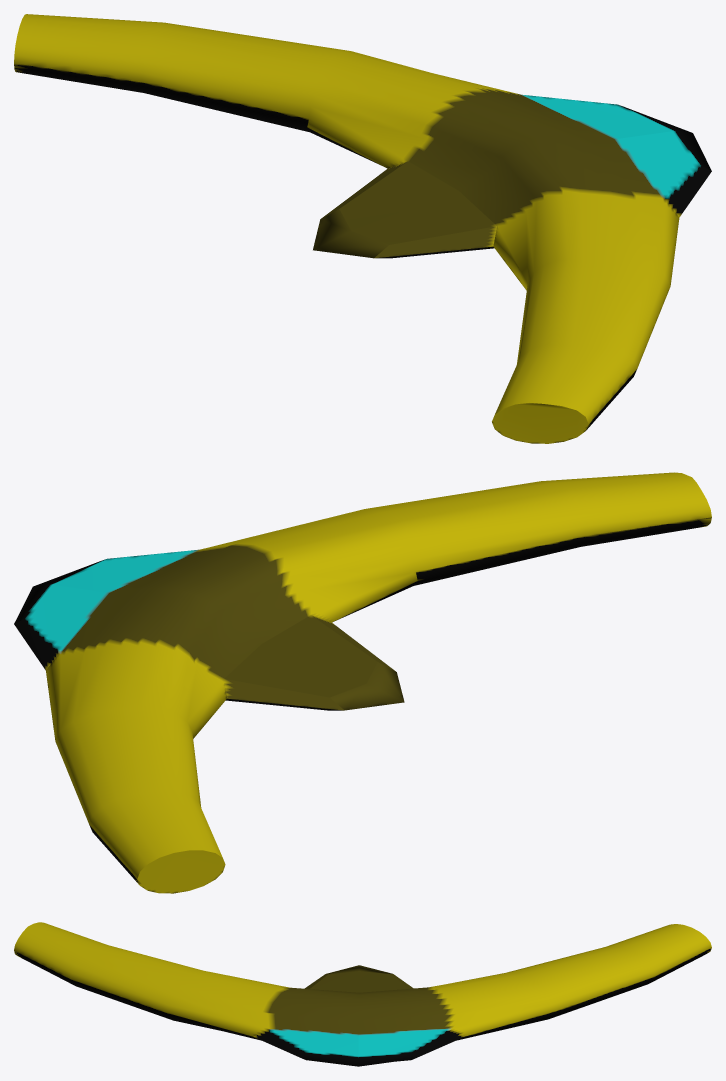
Rendered from mini ship texture 4.FBX.
The picture shows the model from 3 angles, top to bottom: view 1: azimuth 30°, elevation 25°; view 2: azimuth 150°, elevation 25°; view 3: azimuth 270°, elevation 25°; orthographic projection. The views are drawn at different scales.
Visible parts, largest first — view 1: Cylinder001; view 2: Cylinder001; view 3: Cylinder001.
Boxes of the visible parts, x1,y1,x2,y2 form: Cylinder001: [14, 14, 711, 443]; Cylinder001: [14, 472, 711, 893]; Cylinder001: [14, 922, 711, 1066].
Bounding box in the file's own units: 42.37 × 5.94 × 90.51.
Materials: 1 (1 with a texture image).
